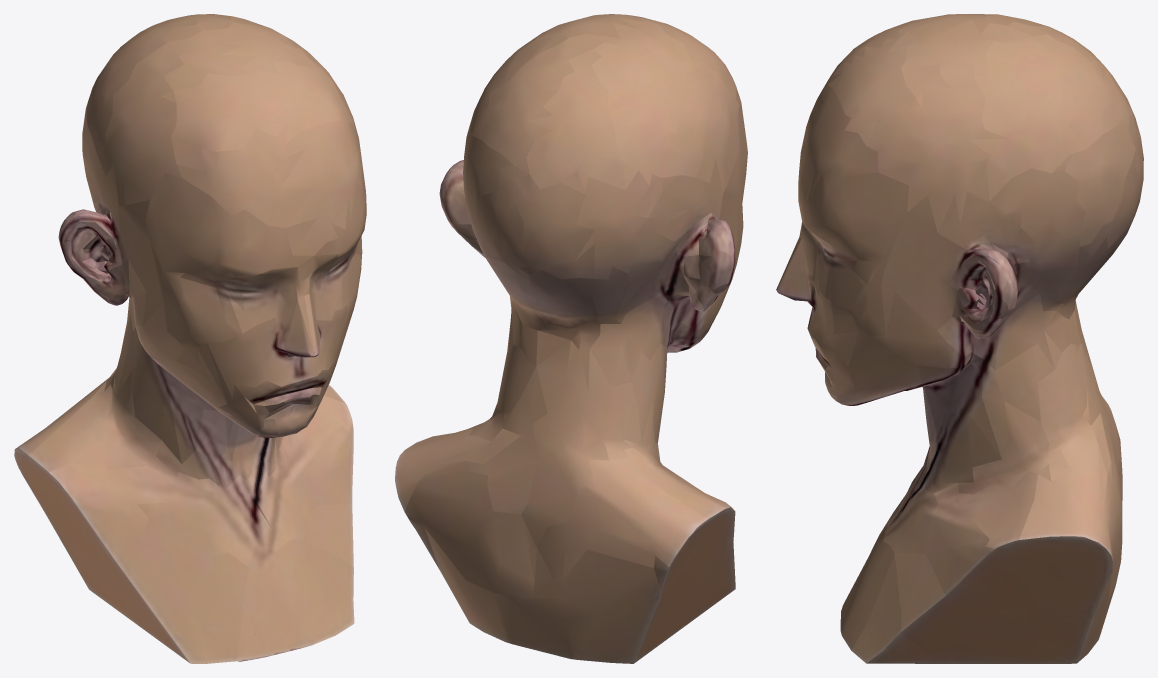
The model's file is nerith_m-tete.glb.
The picture shows the model from 3 angles, left to right: view 1: azimuth 30°, elevation 25°; view 2: azimuth 150°, elevation 25°; view 3: azimuth 270°, elevation 25°; orthographic projection. The views are drawn at different scales.
Parts seen in each view (by area): view 1: geometry_0; view 2: geometry_0; view 3: geometry_0.
Part boxes in pixels (box(x1,y1,x2,y2)): geometry_0: box(14, 14, 366, 663); geometry_0: box(395, 14, 747, 663); geometry_0: box(776, 14, 1143, 663).
Size of the model in its own units: 1.04 by 1.9 by 1.07.
1 material, 1 textured.
